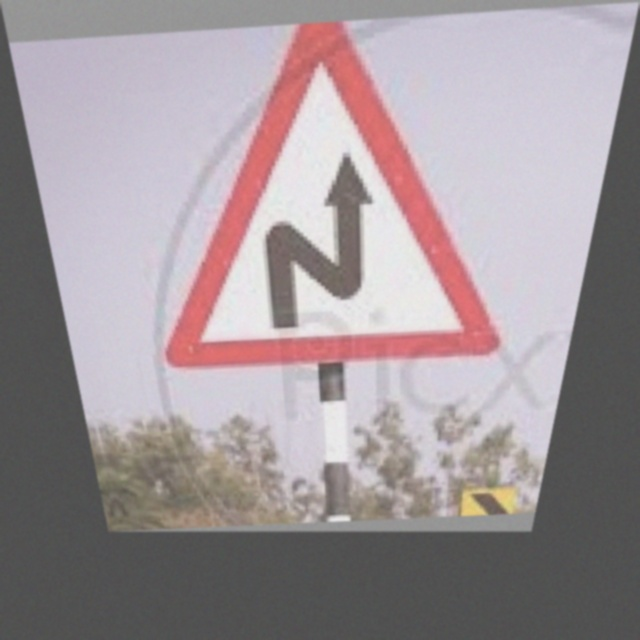Right_Reverse_Bend: (126, 39, 538, 370)
